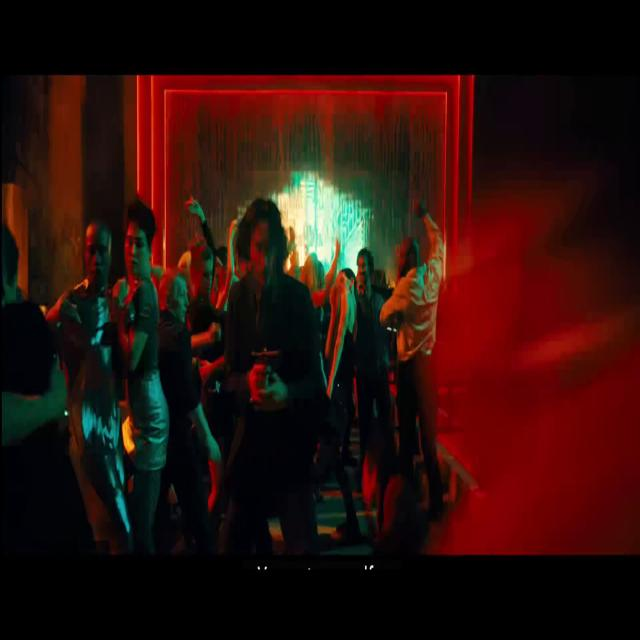weapons: (240, 332, 285, 412)
